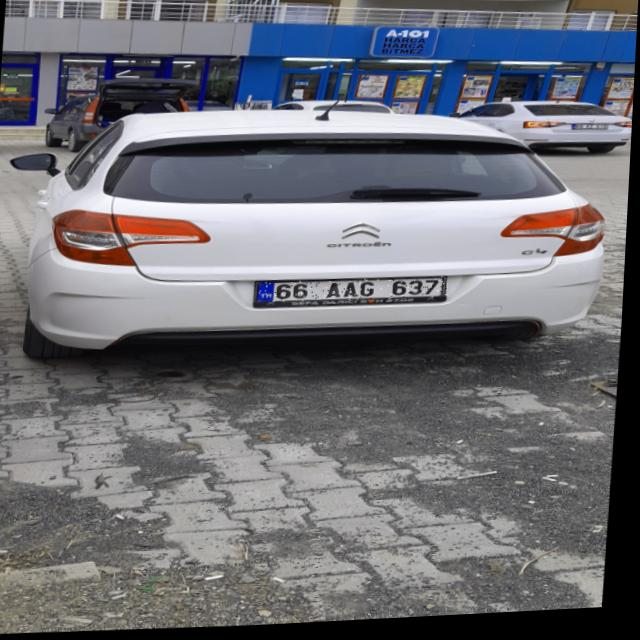license_plate: (256, 278, 451, 310)
